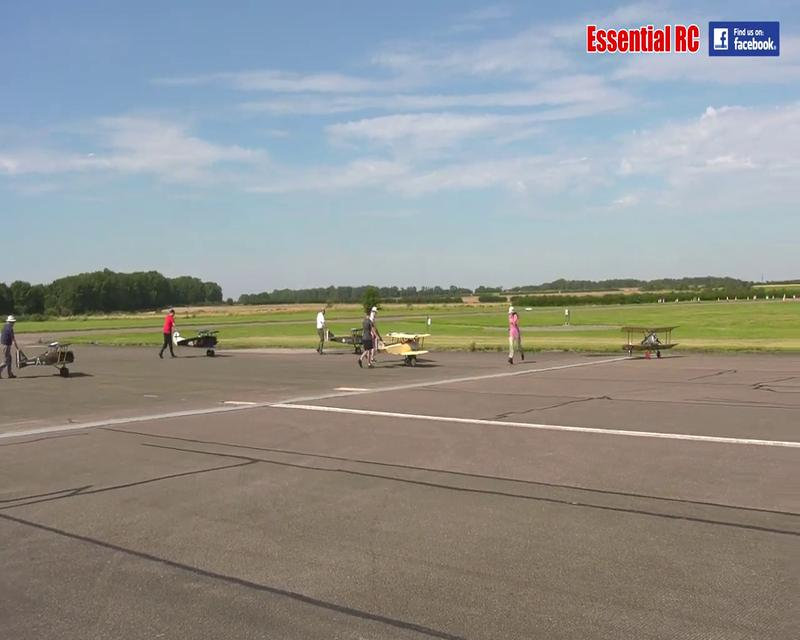UAV: (585, 22, 700, 53), (17, 339, 76, 379), (621, 324, 679, 360), (378, 331, 431, 365), (171, 326, 221, 358)
